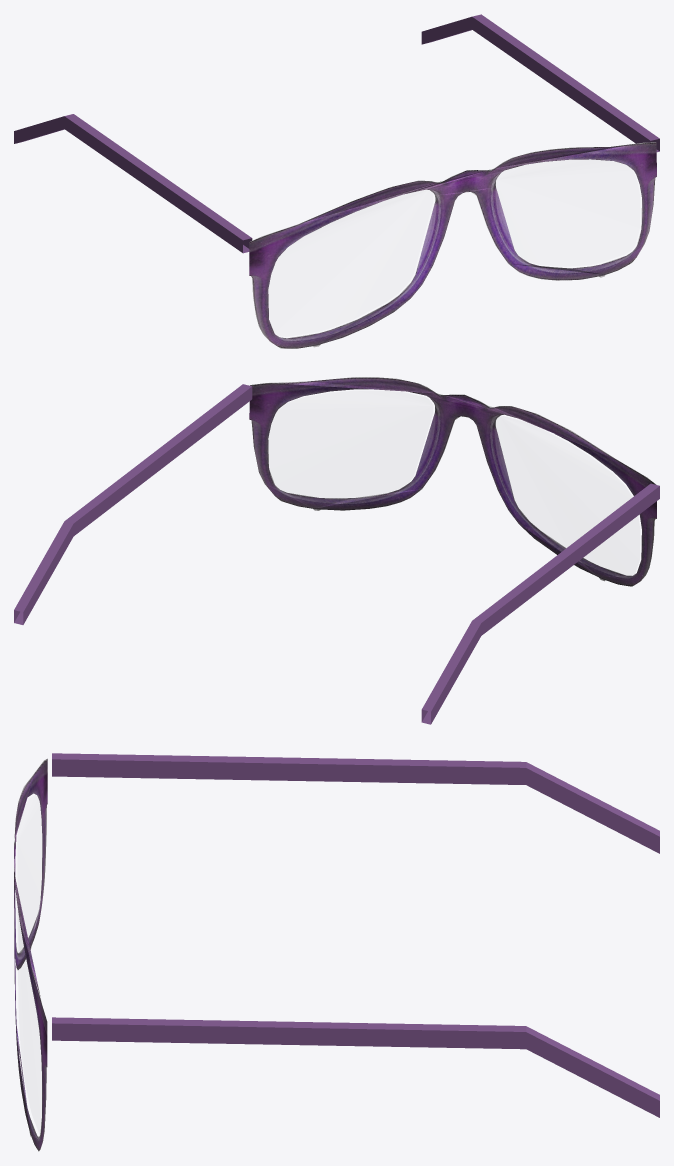
Rendered from gothamstyle-flex-matte-32_matte-purple.glb.
The picture shows the model from 3 angles, top to bottom: view 1: azimuth 30°, elevation 25°; view 2: azimuth 150°, elevation 25°; view 3: azimuth 270°, elevation 25°; orthographic projection. The views are drawn at different scales.
Visible parts, largest first — view 1: frame_front, temple_viewer_left, temple_viewer_right; view 2: frame_front, temple_viewer_left, temple_viewer_right; view 3: temple_viewer_left, temple_viewer_right, frame_front.
Part boxes in pixels (left/top/right/bottom): frame_front: left=249, top=142, right=656, bottom=348; temple_viewer_left: left=14, top=114, right=252, bottom=253; temple_viewer_right: left=421, top=14, right=659, bottom=152; frame_front: left=249, top=377, right=656, bottom=586; temple_viewer_left: left=421, top=483, right=659, bottom=724; temple_viewer_right: left=14, top=384, right=252, bottom=624; temple_viewer_left: left=52, top=753, right=659, bottom=853; temple_viewer_right: left=52, top=1017, right=659, bottom=1117; frame_front: left=14, top=758, right=47, bottom=1151.
Size of the model in its own units: 0.1346 by 0.0453 by 0.136.
Materials: 3 (2 with a texture image).
